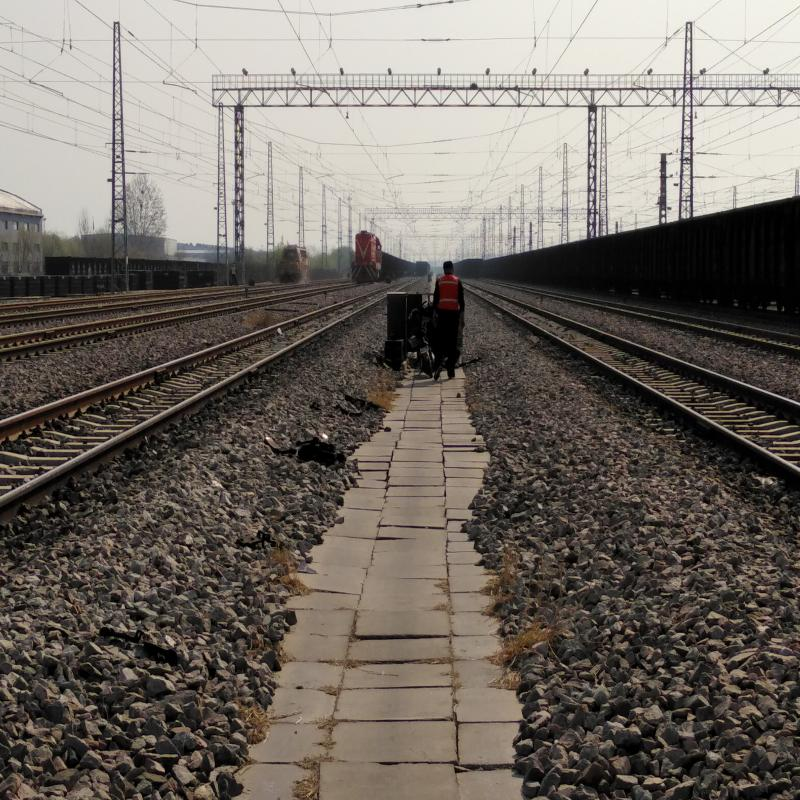train: (351, 230, 414, 286)
